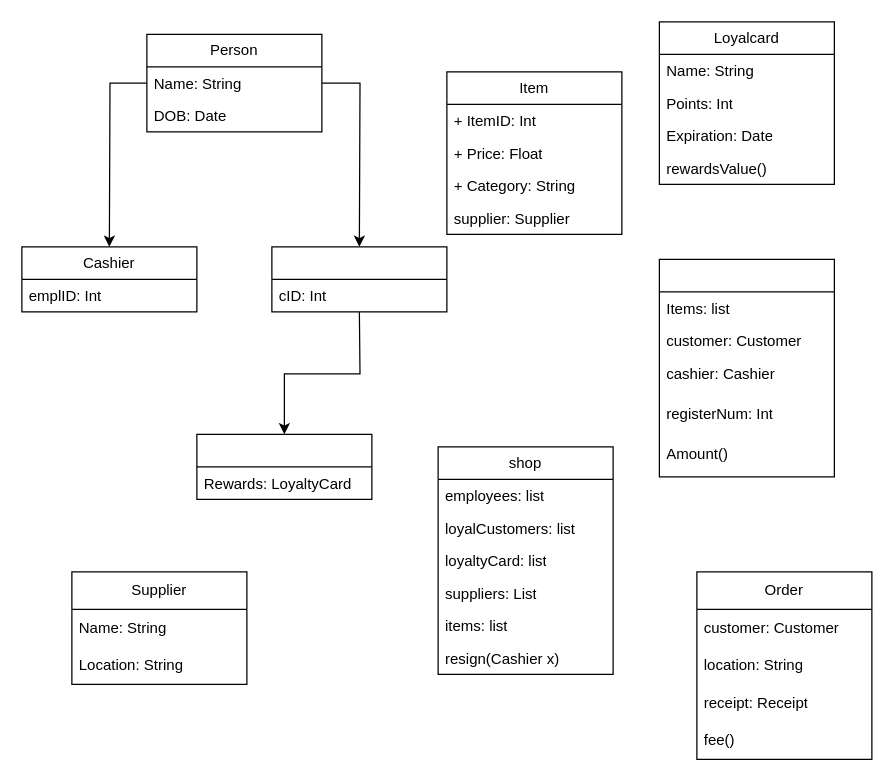
The diagram is 894 pixels wide and 781 high, and some of its shapes have lost their labels. The box of each missing label's shape, as (x1, y1, x2, y2) in pixels:
Customer: (271, 246, 447, 312)
LoyalCustomer: (196, 433, 372, 499)
Receipt: (658, 258, 834, 477)
